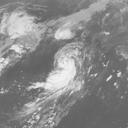cyclone: (44, 42, 88, 90)
